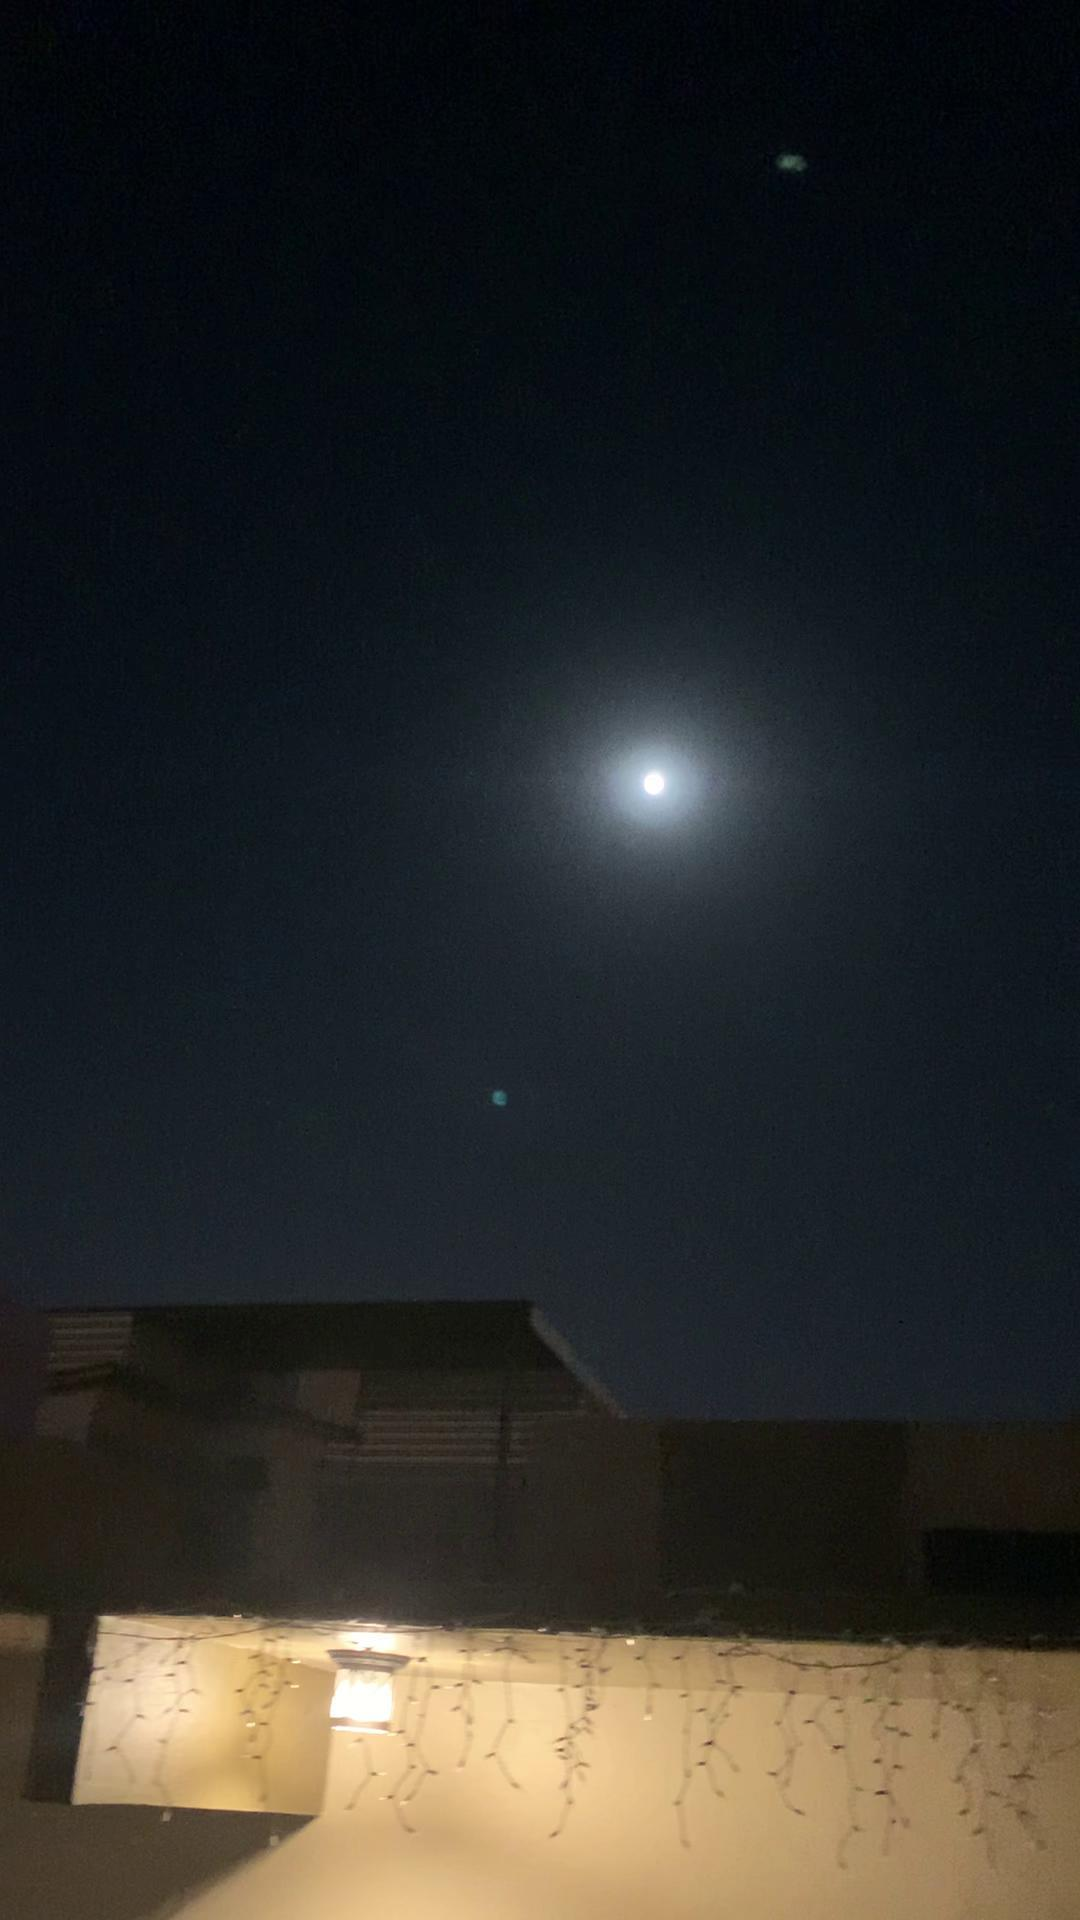moon: (612, 737, 699, 816)
